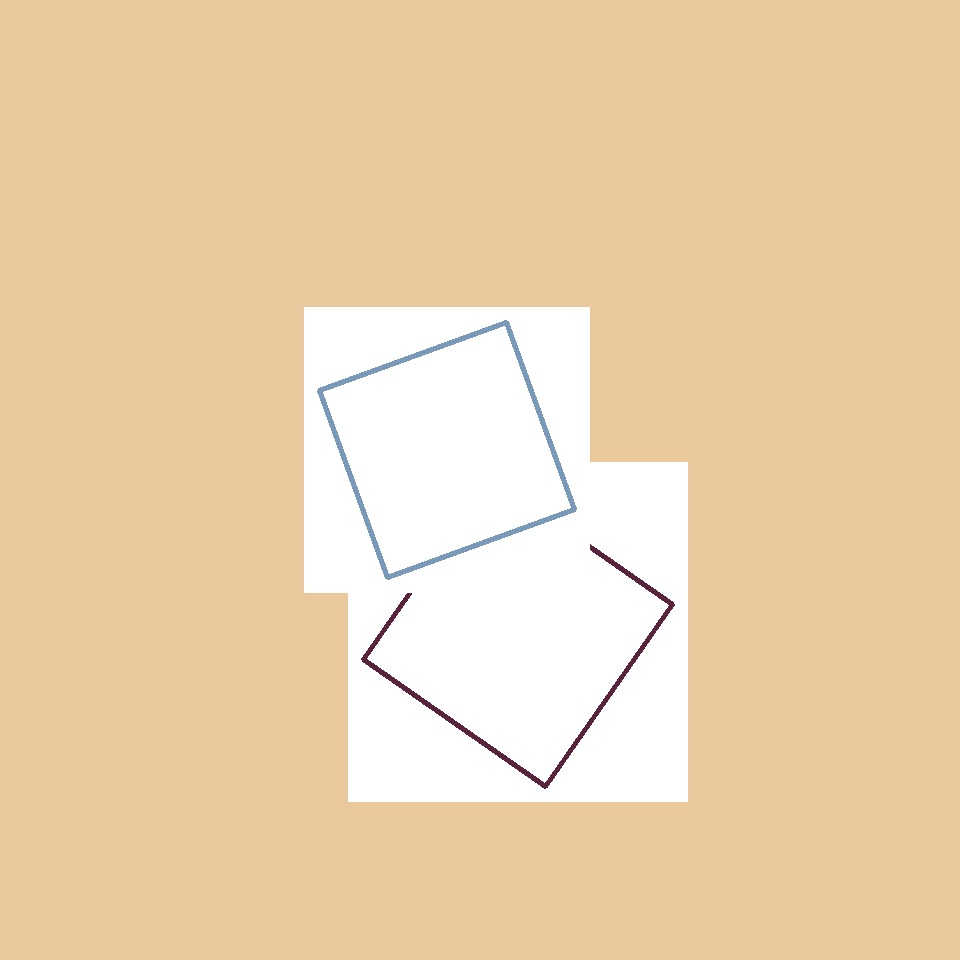square: (544, 115, 882, 454), (363, 478, 672, 786), (320, 322, 574, 578), (676, 24, 900, 250)
triangle: (716, 608, 944, 838)
